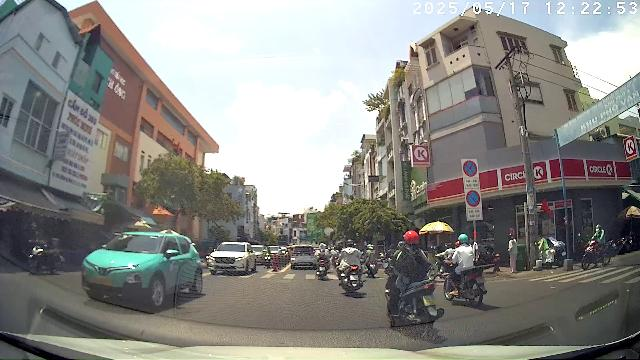130-cam-dung-va-do-xe: (463, 160, 477, 176)
131a-cam-do-xe: (466, 190, 480, 207)
